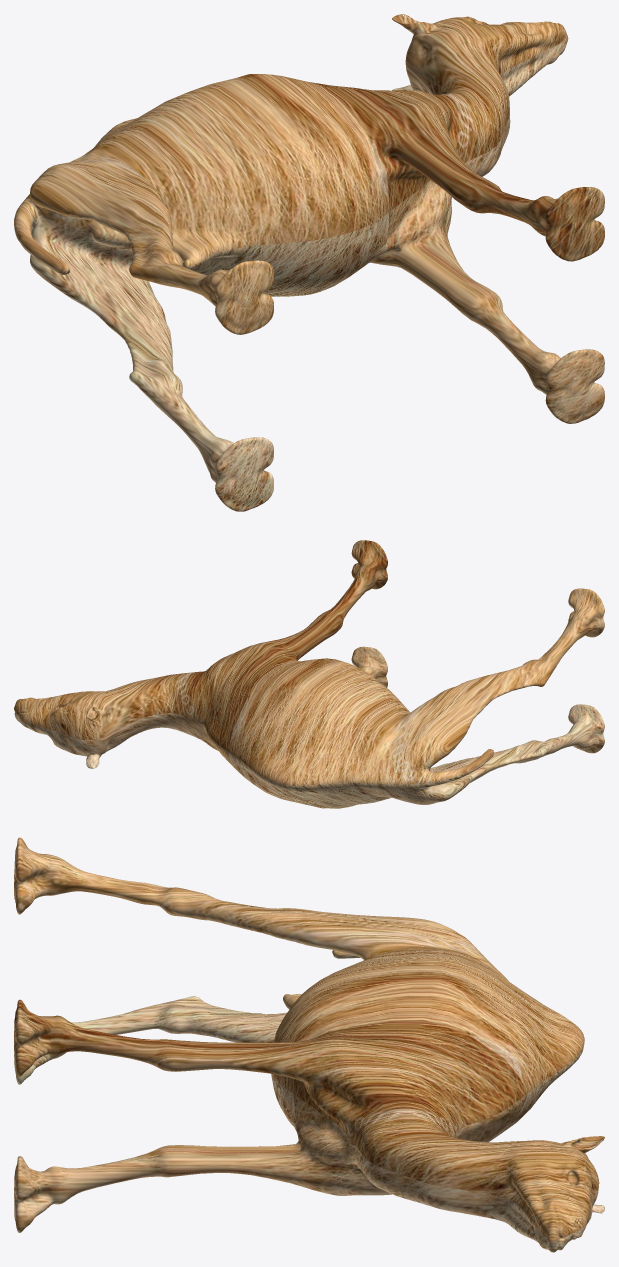
The model's file is camel.obj.
The picture shows the model from 3 angles, top to bottom: view 1: azimuth 30°, elevation 25°; view 2: azimuth 150°, elevation 25°; view 3: azimuth 270°, elevation 25°; orthographic projection. The views are drawn at different scales.
Visible parts, largest first — view 1: default; view 2: default; view 3: default.
Part boxes in pixels (left/top/right/bottom): default: left=14, top=14, right=604, bottom=511; default: left=14, top=540, right=604, bottom=808; default: left=14, top=837, right=604, bottom=1252.
Size of the model in its own units: 0.7321 by 0.2783 by 0.6218.
1 material, 1 textured.
